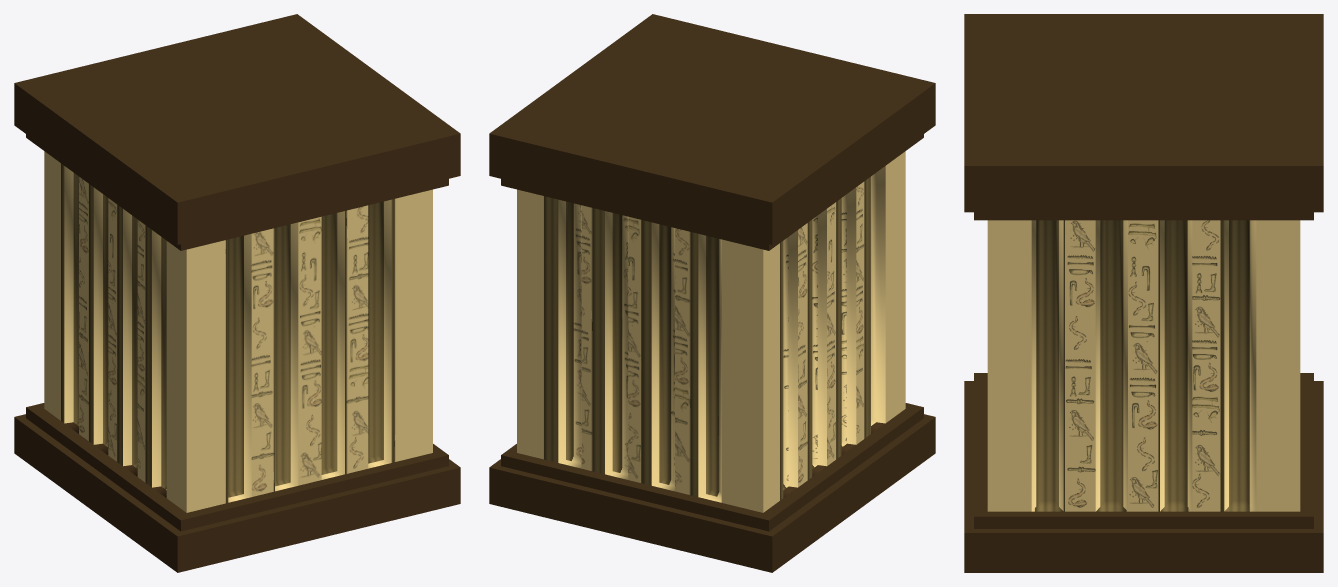
The model's file is Column 2.FBX.
3 views of the same model, side by side, from view 1: azimuth 30°, elevation 25°; view 2: azimuth 150°, elevation 25°; view 3: azimuth 270°, elevation 25° (orthographic). The views are drawn at different scales.
Parts seen in each view (by area): view 1: Blockade2; view 2: Blockade2; view 3: Blockade2.
Boxes of the visible parts, x1,y1,x2,y2 form: Blockade2: (14,14,460,572); Blockade2: (489,14,935,572); Blockade2: (964,14,1323,572).
Size of the model in its own units: 78.74 by 98.43 by 78.74.
